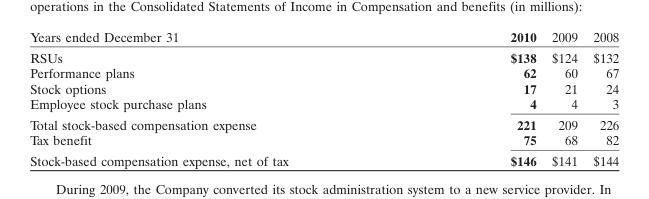table: (29, 28, 618, 168)
table column: (29, 28, 398, 168), (398, 28, 543, 168), (543, 28, 584, 168), (584, 28, 618, 168)
table column header: (29, 28, 618, 46)
table row: (29, 113, 618, 132), (29, 28, 618, 46), (29, 46, 618, 64), (29, 95, 618, 113), (29, 132, 618, 150), (29, 150, 618, 168), (29, 64, 618, 80), (29, 80, 618, 95)
